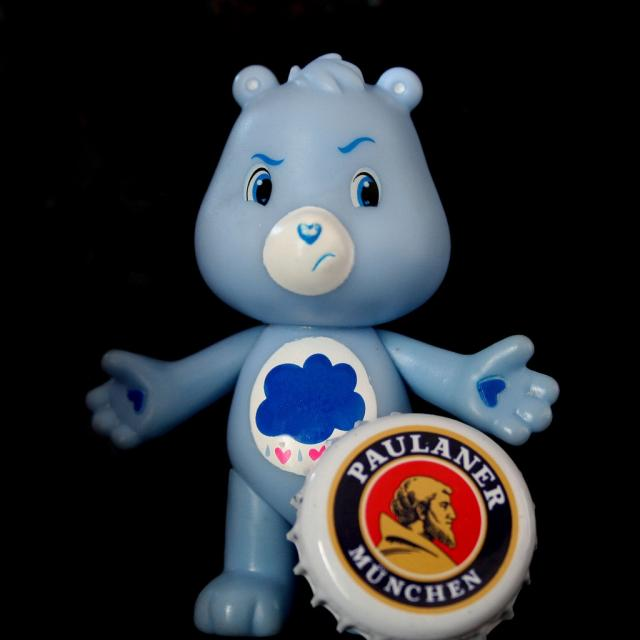paulaner: (328, 426, 518, 616)
